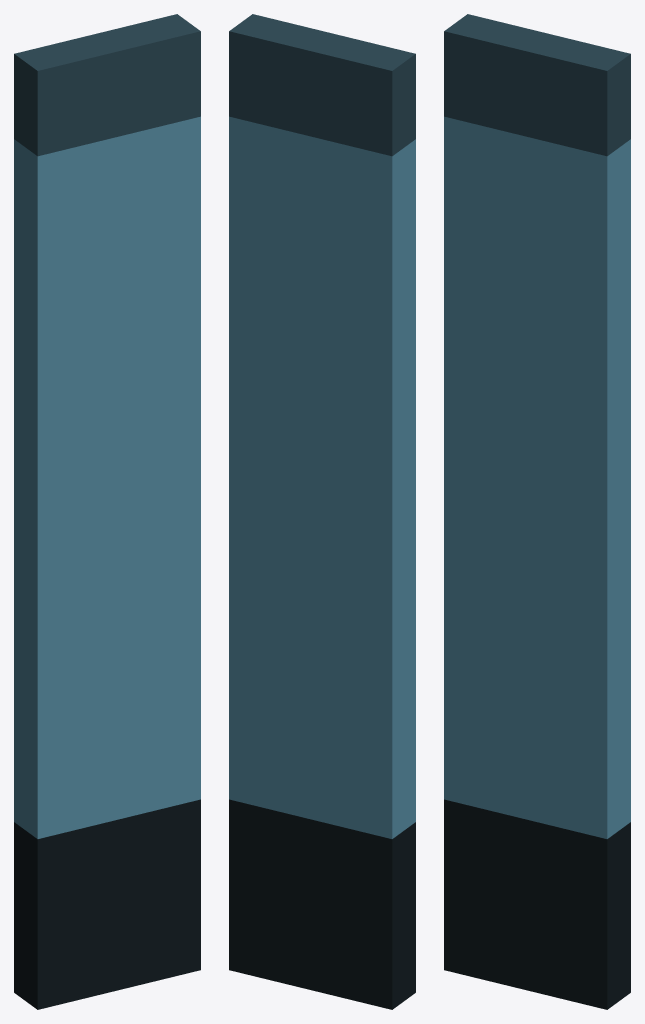
The model's file is Wall.fbx.
3 views of the same model, side by side, from view 1: azimuth 30°, elevation 25°; view 2: azimuth 150°, elevation 25°; view 3: azimuth 330°, elevation 25° (orthographic).
Visible parts, largest first — view 1: Wall.015; view 2: Wall.015; view 3: Wall.015.
Boxes of the visible parts, <box> form: Wall.015: <box>14,14,200,1009</box>; Wall.015: <box>229,14,415,1009</box>; Wall.015: <box>444,14,630,1009</box>.
Size of the model in its own units: 200 by 1100 by 50.
